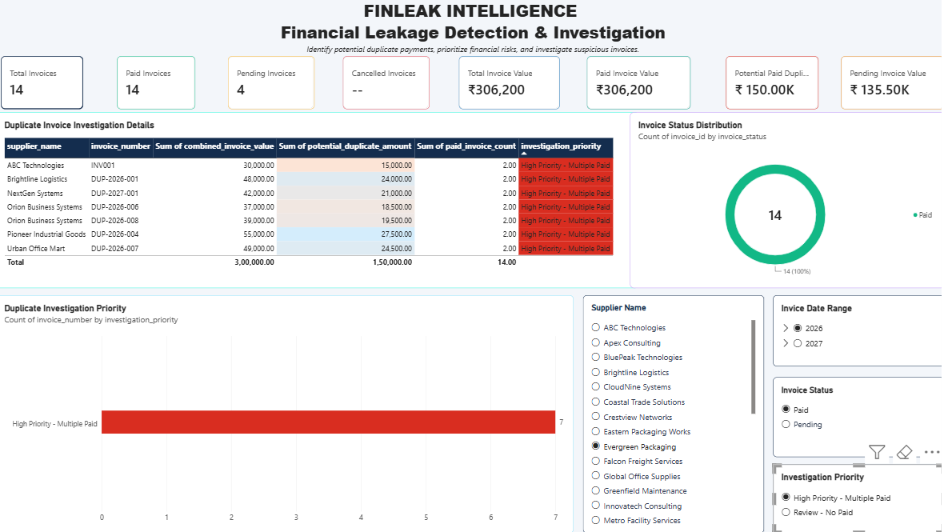

The dashboard page shown, as its layout file describes it:
{"tool":"powerbi","page":{"name":"Page 1","canvas":[1920,1080],"ordinal":0},"visuals":[{"type":"cardVisual","fields":{"Data":["invoices.Total Invoices"]},"box":[10.3,115.3,166.7,107],"z":0},{"type":"cardVisual","fields":{"Data":["invoices.Total Invoice Value Display"]},"box":[936.5,115.3,203.8,107],"z":1},{"type":"cardVisual","fields":{"Data":["invoices.Paid Invoice Value"]},"box":[1195.9,115.3,209.9,107],"z":2},{"type":"cardVisual","fields":{"Data":["invoices.Potential Paid Duplicate Amount"]},"box":[1477.9,115.3,187.3,107],"z":3},{"type":"tableEx","title":"Duplicate Invoice Investigation Details","fields":{"Values":["vw_duplicate_inestigation.supplier_name","vw_duplicate_inestigation.invoice_number","Sum(vw_duplicate_inestigation.combined_invoice_value)","Sum(vw_duplicate_inestigation.potential_duplicate_amount)","Sum(vw_duplicate_inestigation.paid_invoice_count)","vw_duplicate_inestigation.investigation_priority"]},"box":[0,228.7,1301.2,356.2],"z":4},{"type":"donutChart","title":"Invoice Status Distribution","fields":{"Category":["invoices.invoice_status"],"Y":["CountNonNull(invoices.invoice_id)"]},"box":[1283,228.7,637.4,356.2],"z":5},{"type":"textbox","box":[10.3,0,1910.1,168.8],"z":6},{"type":"clusteredBarChart","title":"Duplicate Investigation Priority","fields":{"Category":["vw_duplicate_inestigation.investigation_priority"],"Y":["CountNonNull(vw_duplicate_inestigation.invoice_number)"]},"box":[0,599,1169.1,481.6],"z":7},{"type":"cardVisual","fields":{"Data":["invoices.Pending Invoices"]},"box":[469.3,115.3,175,107],"z":8},{"type":"cardVisual","fields":{"Data":["invoices.Pending Invoice Value"]},"box":[1710.5,115.3,209.9,107],"z":9},{"type":"cardVisual","fields":{"Data":["invoices.Cancelled Invoices"]},"box":[701.9,115.3,175,107],"z":10},{"type":"cardVisual","fields":{"Data":["invoices.Paid Invoices"]},"box":[244.9,115.3,158.5,107],"z":11},{"type":"listSlicer","title":"Supplier Name","fields":{"Values":["suppliers.supplier_name"]},"box":[1187.9,599,366.3,481.6],"z":12},{"type":"listSlicer","title":"Invoice Status","fields":{"Values":["invoices.invoice_status"]},"box":[1572.3,764.9,348.1,161.9],"z":13},{"type":"listSlicer","title":"Invice Date Range","fields":{"Values":["invoices.invoice_date.Variation.Date Hierarchy.Year","invoices.invoice_date.Variation.Date Hierarchy.Quarter","invoices.invoice_date.Variation.Date Hierarchy.Month","invoices.invoice_date.Variation.Date Hierarchy.Day"]},"box":[1572.3,599,348.1,143.7],"z":14},{"type":"listSlicer","title":"Investigation Priority","fields":{"Values":["vw_duplicate_inestigation.investigation_priority"]},"box":[1572.6,940.7,347.9,140],"z":15}]}

Visuals, with their boxes in screenshot pixels (x1, y1, x2, y2), scaled from the page's 1920x1080 canvas onto the 942x532 screenshot:
cardVisual - invoices.Total Invoices: <bbox>5, 57, 87, 110</bbox>
cardVisual - invoices.Total Invoice Value Display: <bbox>459, 57, 559, 110</bbox>
cardVisual - invoices.Paid Invoice Value: <bbox>587, 57, 690, 110</bbox>
cardVisual - invoices.Potential Paid Duplicate Amount: <bbox>725, 57, 817, 110</bbox>
"Duplicate Invoice Investigation Details" tableEx: <bbox>0, 113, 638, 288</bbox>
"Invoice Status Distribution" donutChart: <bbox>629, 113, 941, 288</bbox>
textbox: <bbox>5, 0, 941, 83</bbox>
"Duplicate Investigation Priority" clusteredBarChart: <bbox>0, 295, 574, 531</bbox>
cardVisual - invoices.Pending Invoices: <bbox>230, 57, 316, 110</bbox>
cardVisual - invoices.Pending Invoice Value: <bbox>839, 57, 941, 110</bbox>
cardVisual - invoices.Cancelled Invoices: <bbox>344, 57, 430, 110</bbox>
cardVisual - invoices.Paid Invoices: <bbox>120, 57, 198, 110</bbox>
"Supplier Name" listSlicer: <bbox>583, 295, 763, 531</bbox>
"Invoice Status" listSlicer: <bbox>771, 377, 941, 457</bbox>
"Invice Date Range" listSlicer: <bbox>771, 295, 941, 366</bbox>
"Investigation Priority" listSlicer: <bbox>772, 463, 941, 531</bbox>
